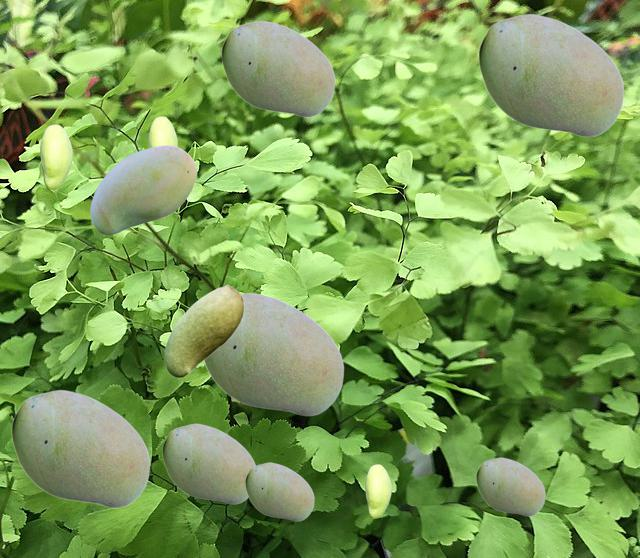green_mango: (478, 13, 623, 136), (204, 292, 343, 415), (11, 389, 149, 507), (221, 20, 334, 116), (90, 145, 196, 233), (162, 423, 255, 503), (164, 284, 243, 376), (476, 457, 544, 515), (245, 462, 313, 520), (40, 124, 71, 188), (365, 464, 390, 517), (148, 116, 176, 147)
